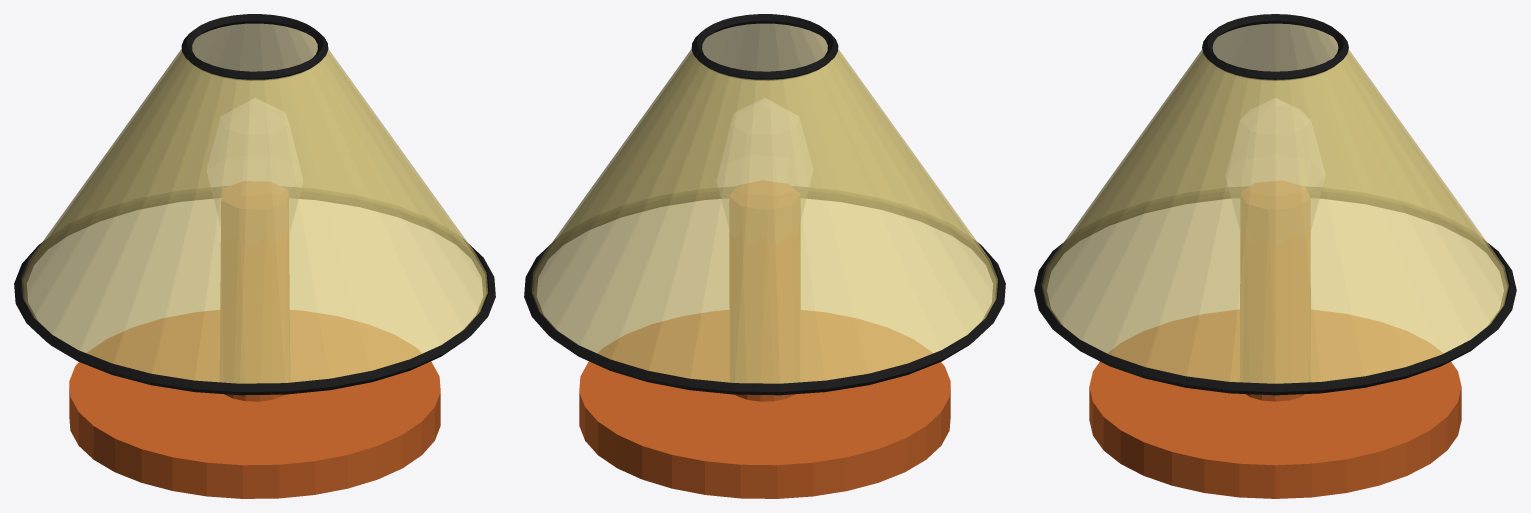
File: Lampe_de_chevee.fbx
The picture shows the model from 3 angles, left to right: view 1: azimuth 30°, elevation 25°; view 2: azimuth 150°, elevation 25°; view 3: azimuth 270°, elevation 25°; orthographic projection.
Visible parts, largest first — view 1: Abat jour, Lampe de chevée, Torus, Torus.002; view 2: Abat jour, Lampe de chevée, Torus, Torus.002; view 3: Abat jour, Lampe de chevée, Torus, Torus.002.
Boxes of the visible parts, x1,y1,x2,y2 form: Abat jour: (22,23,487,383); Lampe de chevée: (69,181,440,498); Torus: (14,191,495,395); Torus.002: (181,14,328,80); Abat jour: (532,23,997,383); Lampe de chevée: (579,181,950,498); Torus: (524,191,1005,395); Torus.002: (691,14,838,80); Abat jour: (1042,23,1508,383); Lampe de chevée: (1089,181,1461,498); Torus: (1034,191,1516,395); Torus.002: (1202,14,1348,80).
Bounding box in the file's own units: 77.8 × 67.14 × 77.8.
